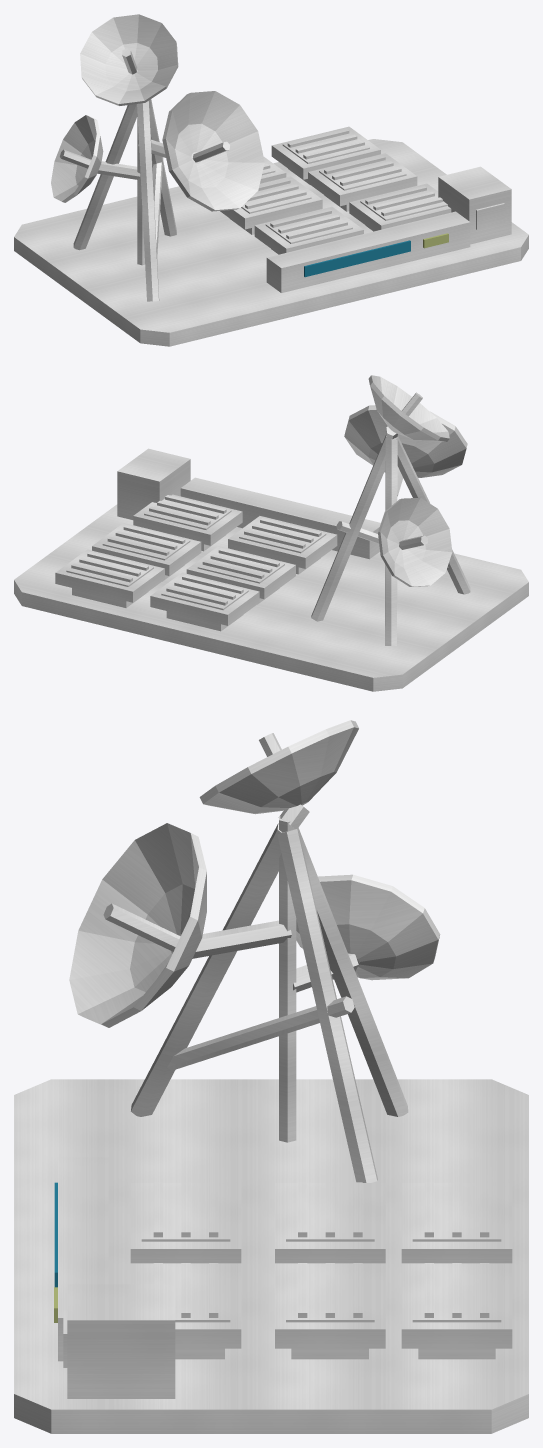
File: sun_blocker.obj
3 views of the same model, one above another, from view 1: azimuth 30°, elevation 25°; view 2: azimuth 150°, elevation 25°; view 3: azimuth 270°, elevation 25° (orthographic). The views are drawn at different scales.
Parts seen in each view (by area): view 1: sun_blocker; view 2: sun_blocker; view 3: sun_blocker.
Part boxes in pixels (box(x1,y1,x2,y2)): sun_blocker: box(14, 14, 528, 346); sun_blocker: box(14, 375, 528, 691); sun_blocker: box(14, 720, 528, 1433).
Size of the model in its own units: 5.86 by 3.64 by 3.86.
